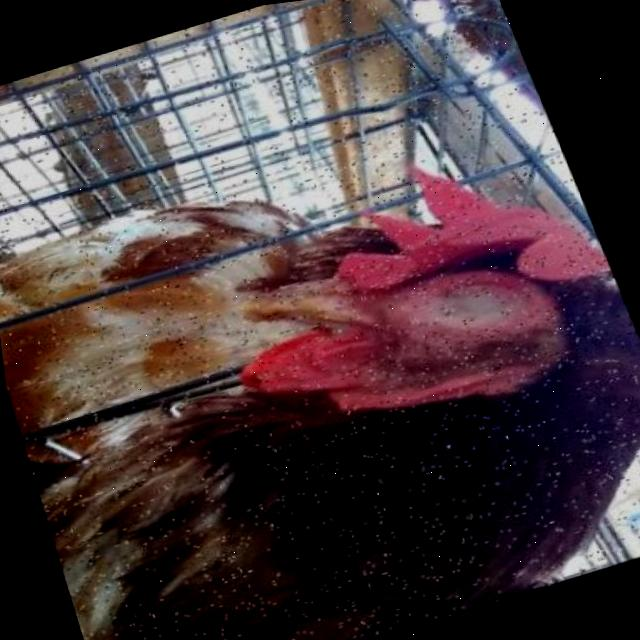Coryza: (389, 230, 542, 370)
